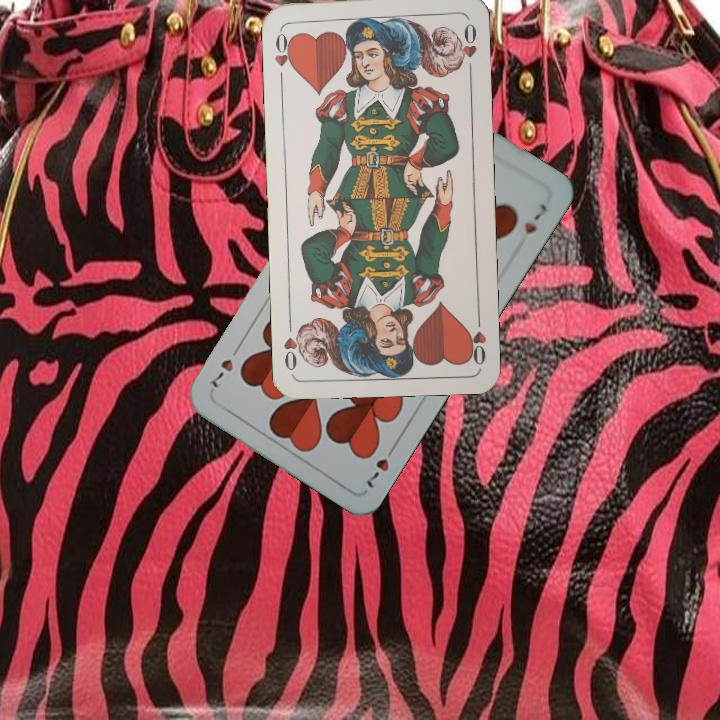H7: (362, 440, 399, 491)
HO: (270, 25, 296, 84), (464, 308, 489, 368)
